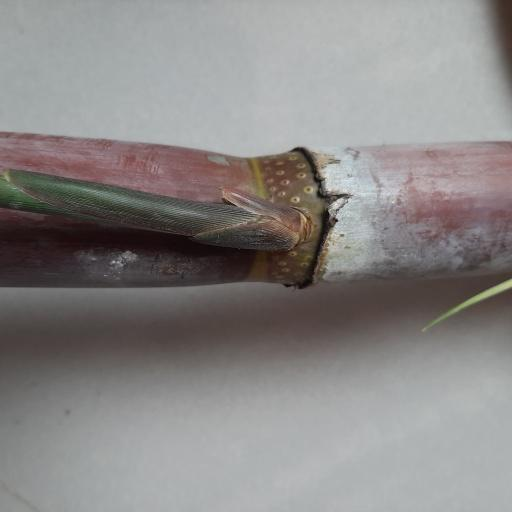Sprouted_Bud: (195, 207, 311, 253)
